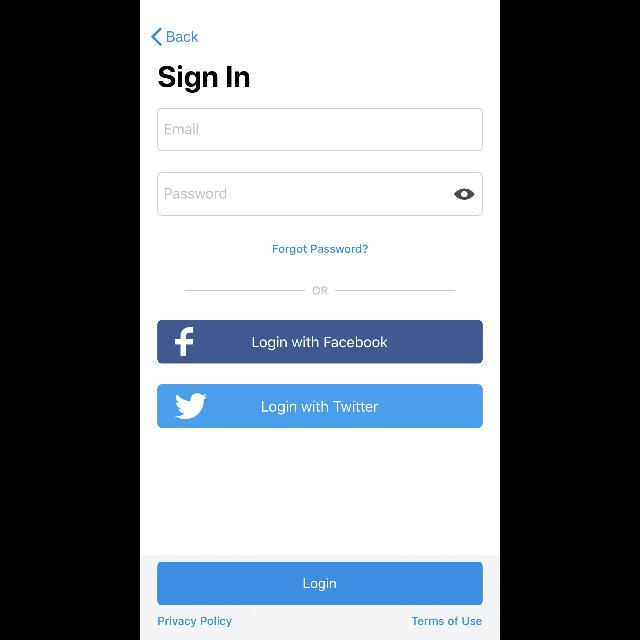icon: (454, 188, 474, 200), (152, 28, 162, 46)
input: (158, 108, 482, 152), (158, 172, 482, 215)
text: (158, 66, 250, 92), (272, 245, 368, 255), (158, 616, 232, 628), (165, 188, 227, 198), (412, 617, 482, 625), (165, 124, 198, 134), (168, 32, 198, 42), (312, 286, 328, 294)
textbutton: (158, 384, 482, 428), (158, 321, 482, 364), (158, 562, 482, 604)
